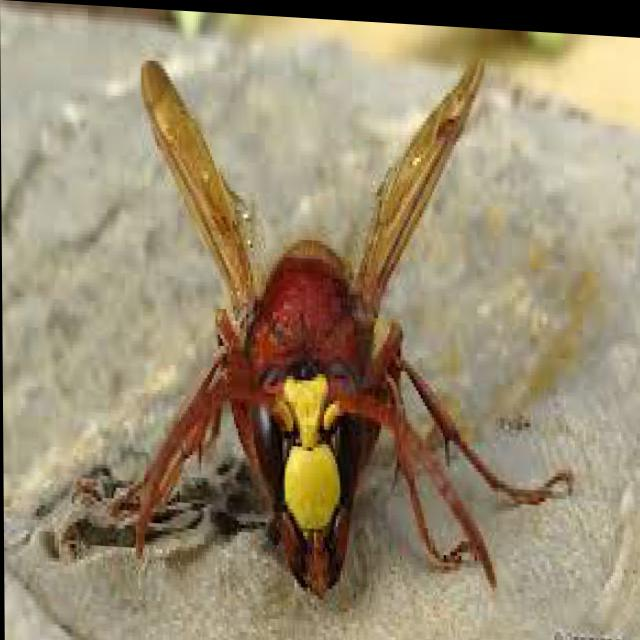Vespa Orientalis: (75, 19, 584, 607)
